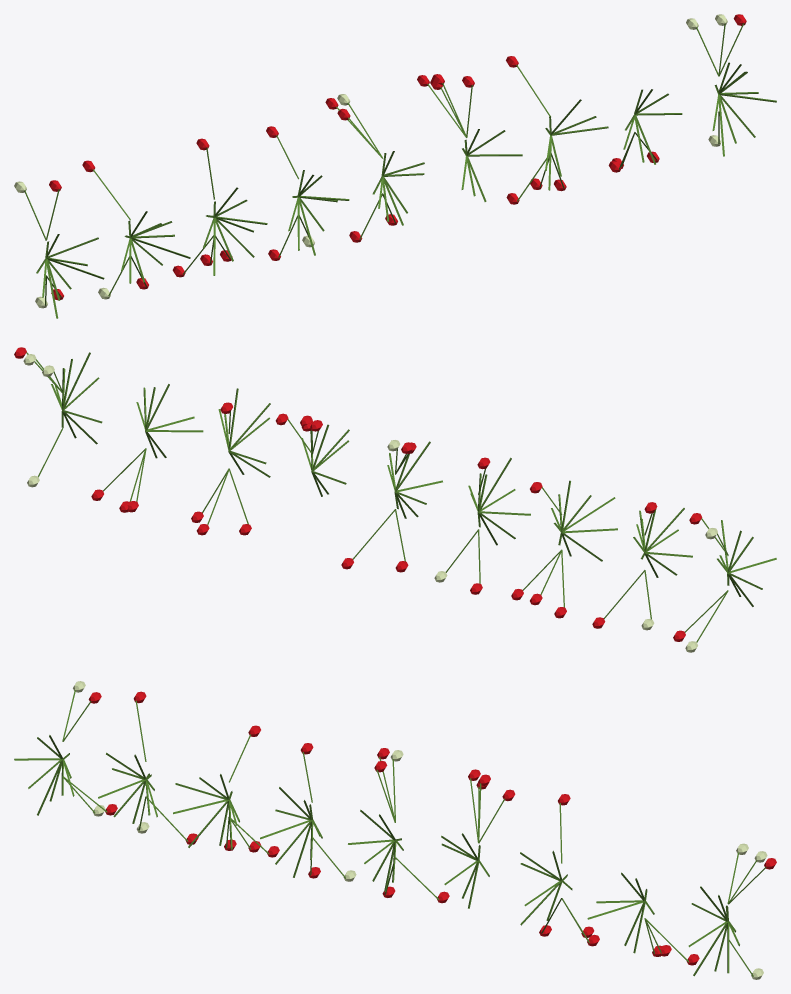
The model's file is r3c4_rest.obj.
The picture shows the model from 3 angles, top to bottom: view 1: azimuth 30°, elevation 25°; view 2: azimuth 150°, elevation 25°; view 3: azimuth 330°, elevation 25°; orthographic projection.
Visible parts, largest first — view 1: r3c4_rest; view 2: r3c4_rest; view 3: r3c4_rest.
Boxes of the visible parts, bbox=[...] form: r3c4_rest: bbox=[14, 14, 776, 318]; r3c4_rest: bbox=[14, 347, 776, 652]; r3c4_rest: bbox=[14, 681, 776, 979].
Size of the model in its own units: 2.2 by 0.4011 by 0.2586.
